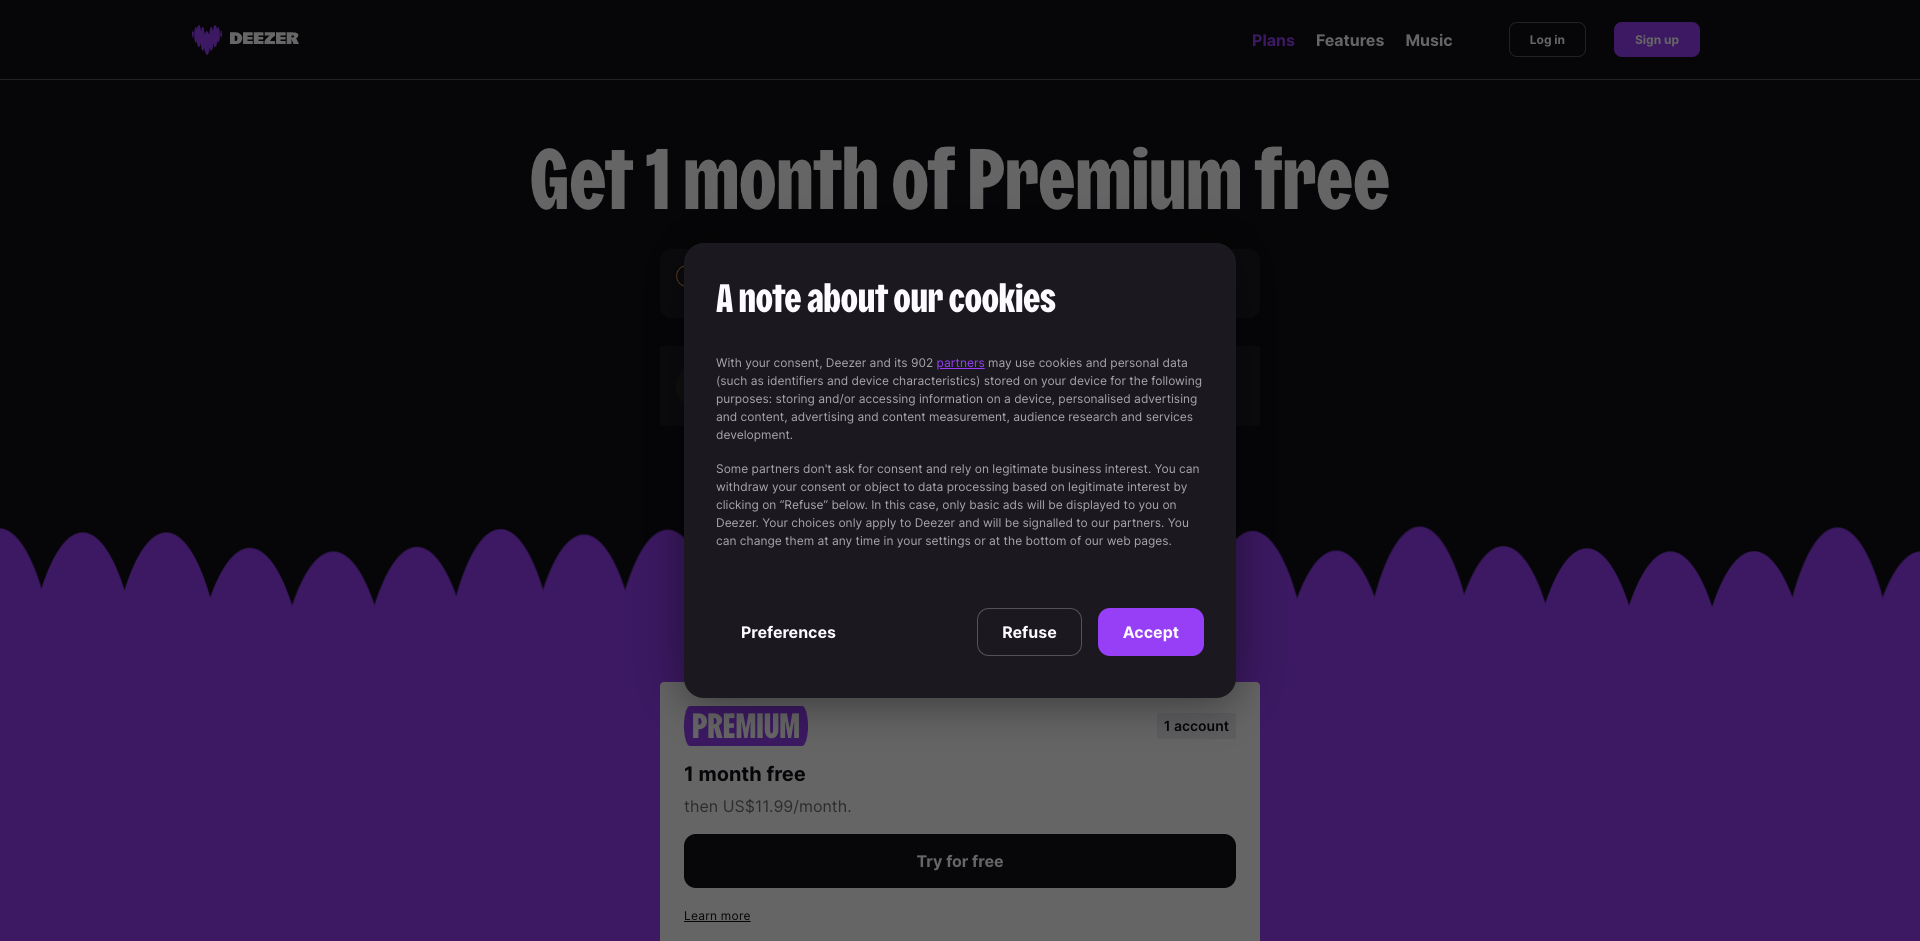button: (684, 834, 1236, 888), (716, 609, 861, 657), (1097, 609, 1204, 657), (977, 609, 1081, 657), (1614, 22, 1700, 58), (1509, 22, 1586, 58)
link: (684, 706, 808, 746), (684, 794, 852, 818), (684, 762, 852, 785), (192, 25, 299, 54), (1316, 29, 1385, 49), (684, 908, 751, 923), (1406, 29, 1452, 49), (1251, 29, 1296, 49), (937, 355, 984, 370)
